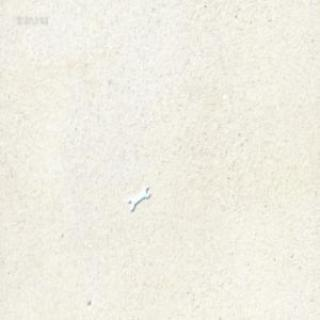Wrenchtrack_idkeyframe: (127, 185, 150, 212)
